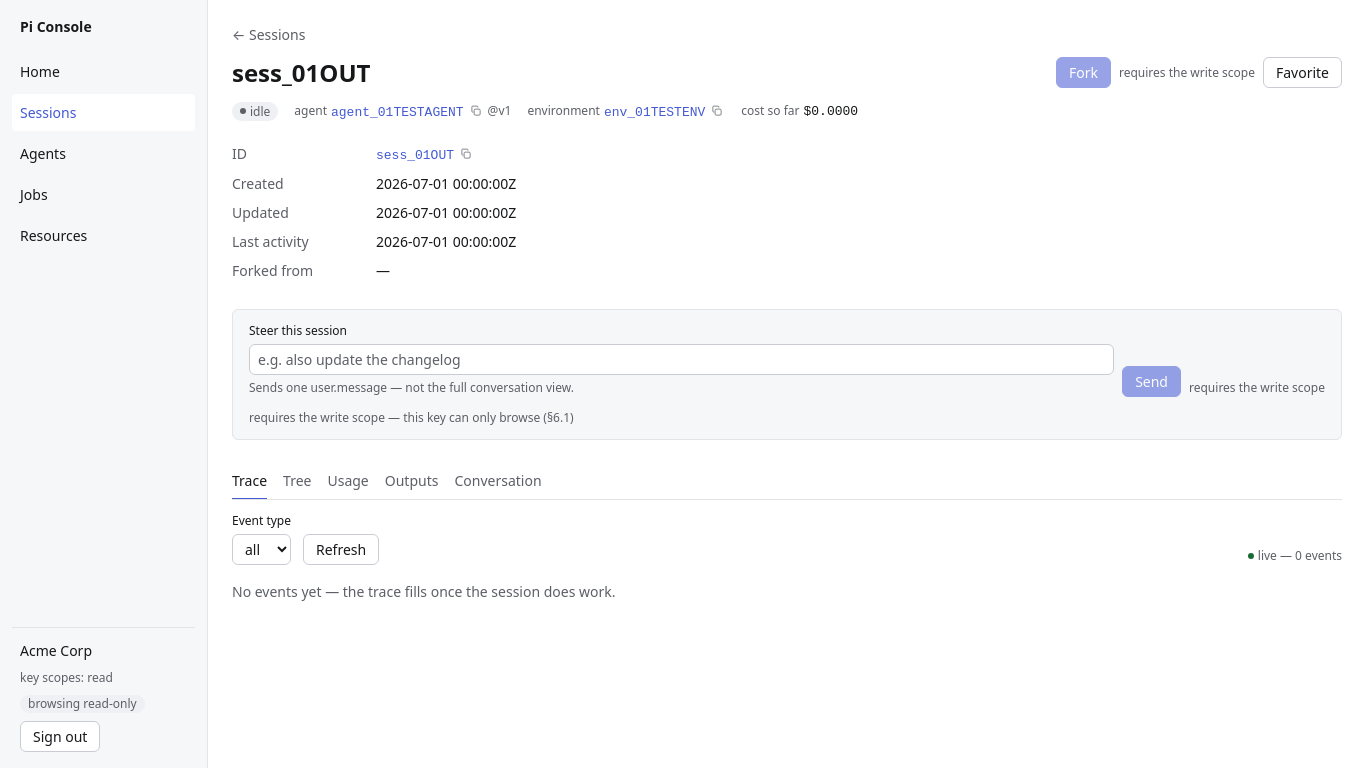
Test: idle-only rule (api-reference: 409 session_not_idle) › any other failure renders the DP-9 facts
Expected: the element named "Session detail" is shown, [232, 464, 1342, 500]
What coordinates should you click on to do the following:
click the tab "Outputs"
I would click on:
 (412, 482)
Its box is [385, 464, 438, 500].
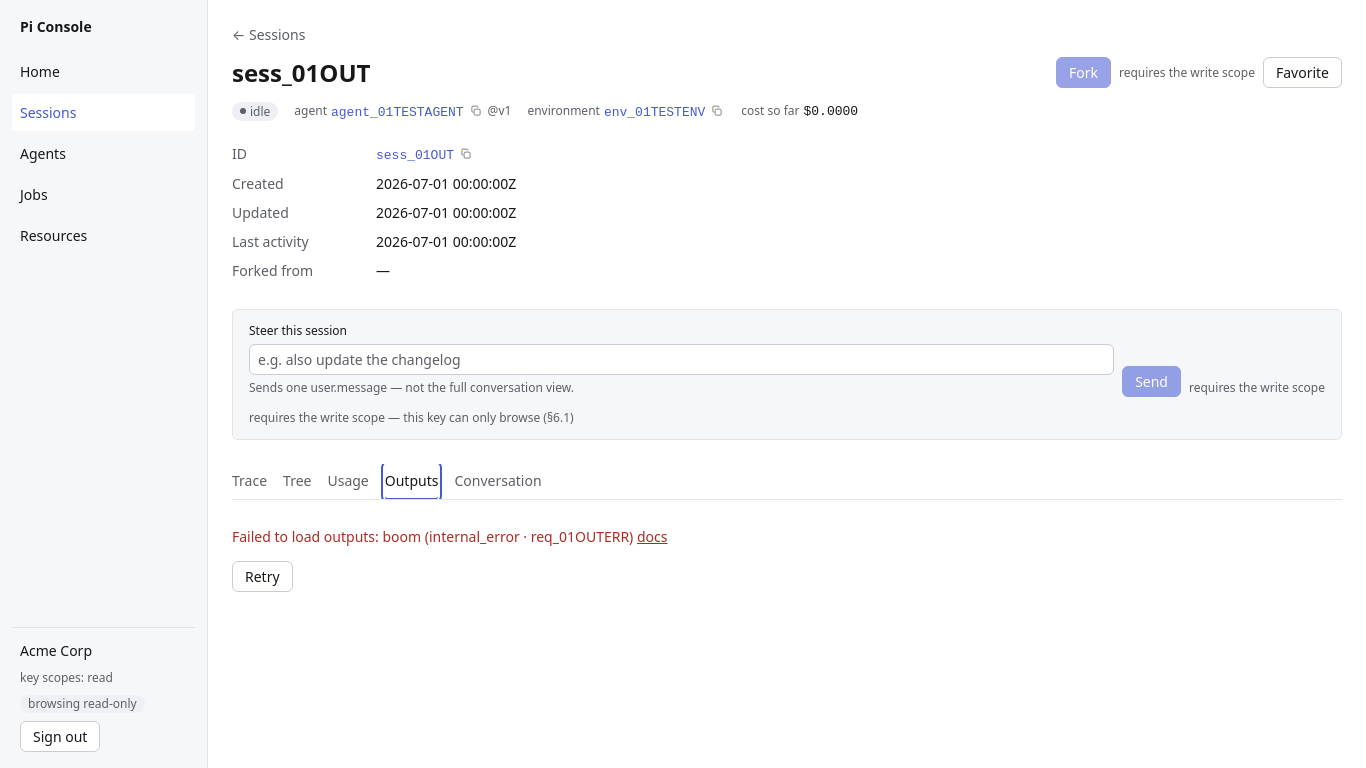
Expected: the message shows "internal_error", [382, 527, 633, 546]
Expected: the message shows "req_01OUTERR", [382, 527, 633, 546]
